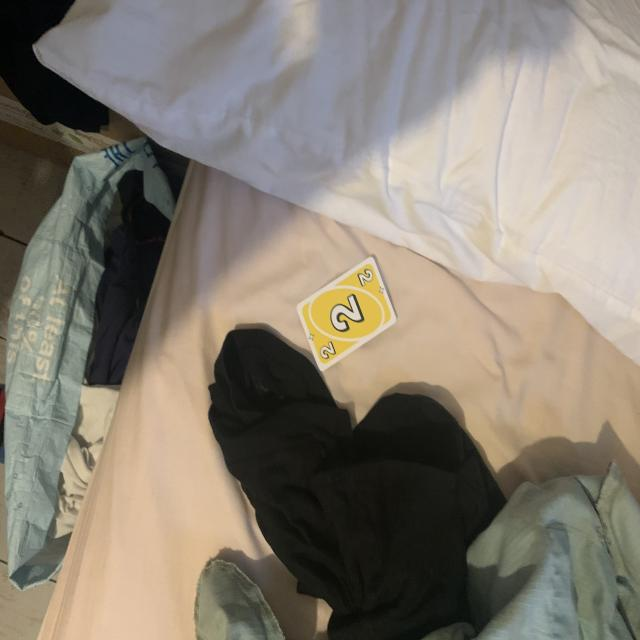lyellow-2: (355, 265, 374, 286)
